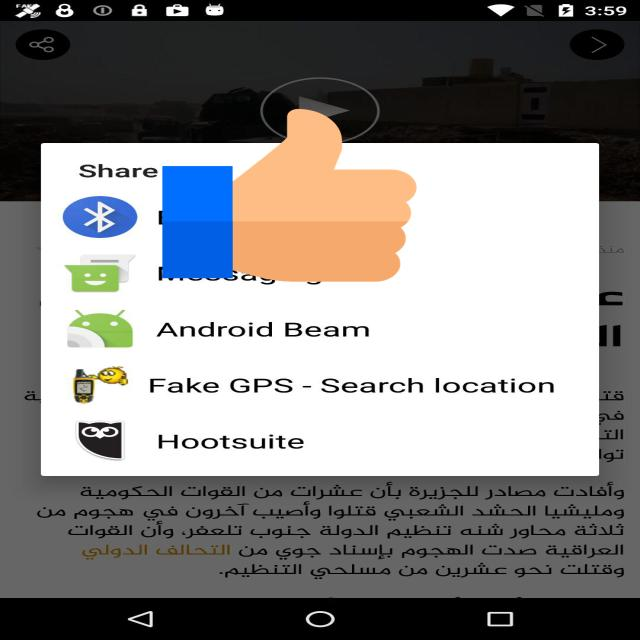privacy zuckering: (162, 105, 416, 286)
